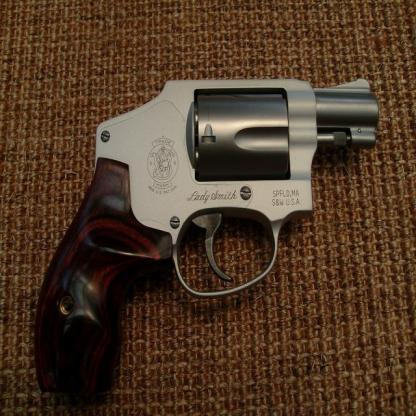weapon: (33, 77, 381, 404)
